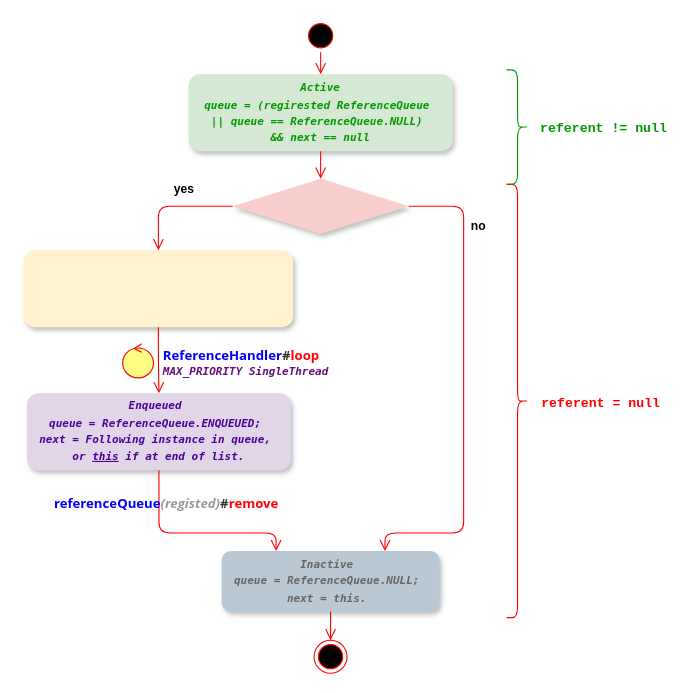
This 685x693 diagram has some shape labels left out. Here are the shapes that lost their labels. From the top down, the centre of each, then its label:
At point 321,207: "System.gc() queue != ReferenceQueue.NULL".
At point 159,289: "Pending queue = ReferenceQueue with which instance is registered; next = this".
